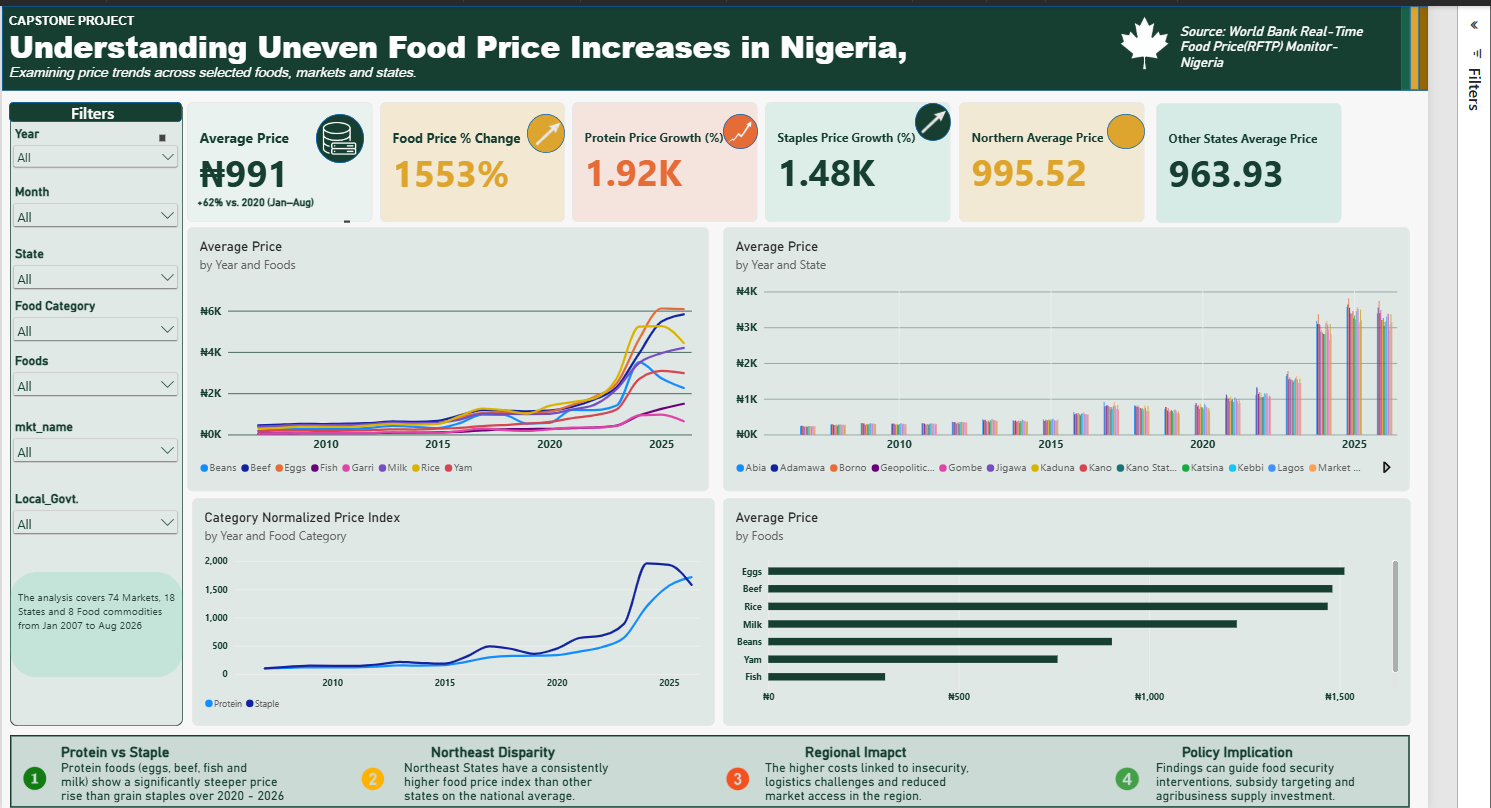

Layout of this report page (visuals, bound fields, positions):
{"tool":"powerbi","page":{"name":"Page 1","canvas":[1920,1080],"ordinal":0},"visuals":[{"type":"shape","box":[0,0,1920.3,114.5],"z":0},{"type":"textbox","title":"CAPSTONE PROJECT","box":[9.4,12.1,210.1,25.6],"z":1000},{"type":"textbox","title":"Understanding Uneven Food Price Increases in Nigeria, 2007–2026","box":[9.4,25.6,1268.5,59.3],"z":2000},{"type":"textbox","title":"Examining price trends across selected foods, markets and states.","box":[9.4,75.4,566.9,39.1],"z":3000},{"type":"textbox","title":"Source: World Bank Real-Time Food Price(RFTP) Monitor- Nigeria","box":[1586.3,22.9,288.2,72.7],"z":4000},{"type":"shape","box":[1908.2,0,12.1,113.1],"z":5000},{"type":"shape","box":[1896.1,0,12.1,113.1],"z":6000},{"type":"shape","box":[1883.9,0,12.1,113.1],"z":7000},{"type":"image","box":[1461.1,12.1,154.9,75.4],"z":8000},{"type":"cardVisual","fields":{"Data":["DateTable.Average Price"]},"box":[249.1,129.3,250.5,162.9],"z":9000},{"type":"shape","box":[422.8,145.4,64.6,66],"z":10000},{"type":"image","box":[416.1,156.2,76.8,44.4],"z":11000},{"type":"shape","box":[10.1,129.9,232.9,840.4],"z":12000},{"type":"textbox","title":"+62% vs. 2020 (Jan–Aug)","box":[262.6,255.9,206,36.4],"z":13000},{"type":"cardVisual","fields":{"Data":["DateTable.Food Price % Change"]},"box":[509,129.3,249.1,162.9],"z":14000},{"type":"cardVisual","fields":{"Data":["DateTable.Protein Price Growth (%)"]},"box":[767.6,129.3,250.5,162.9],"z":15000},{"type":"cardVisual","fields":{"Data":["DateTable.Staples Price Growth (%)"]},"box":[1027.5,129.3,250.5,162.9],"z":16000},{"type":"cardVisual","fields":{"Data":["DateTable.Other States Average Price"]},"box":[1554,130.6,250.5,162.9],"z":17000},{"type":"shape","box":[707,145.4,51.2,52.5],"z":18000},{"type":"image","box":[704.3,150.8,63.3,41.7],"z":19000},{"type":"shape","box":[970.9,145.4,47.1,47.1],"z":20000},{"type":"shape","box":[1229.5,130.6,48.5,51.2],"z":21000},{"type":"image","box":[1229.5,134.7,52.5,41.7],"z":22000},{"type":"image","box":[965.5,144.1,57.9,48.5],"z":23000},{"type":"cardVisual","fields":{"Data":["DateTable.Northern Average Price"]},"box":[1288.7,129.3,250.5,162.9],"z":24000},{"type":"shape","box":[1488,145.4,51.2,47.1],"z":25000},{"type":"slicer","fields":{"Values":["DateTable.Year"]},"box":[9.4,161.6,233,78.1],"z":26000},{"type":"slicer","fields":{"Values":["DateTable.Month"]},"box":[9.4,239.7,233,83.5],"z":27000},{"type":"slicer","fields":{"Values":["Sheet1.adm1_name"]},"box":[9.4,323.2,233,70],"z":28000},{"type":"slicer","fields":{"Values":["Sheet1.Food Category"]},"box":[9.4,393.2,233,74.1],"z":29000},{"type":"slicer","fields":{"Values":["Sheet1.Foods"]},"box":[9.4,467.3,233,79.5],"z":30000},{"type":"slicer","fields":{"Values":["Sheet1.mkt_name"]},"box":[9.4,556.2,233,78.1],"z":31000},{"type":"slicer","fields":{"Values":["Sheet1.Local_Govt."]},"box":[9.4,653.1,233,82.1],"z":32000},{"type":"shape","box":[9.4,129.3,233,26.9],"z":33000},{"type":"textbox","title":"Filters","box":[92.9,129.3,126.6,52.5],"z":34000},{"type":"textbox","box":[21.5,786.4,220.8,74.1],"z":35000},{"type":"shape","box":[10.1,762.8,232.9,141.8],"z":36000},{"type":"lineChart","fields":{"Category":["DateTable.Year"],"Series":["Sheet1.Foods"],"Y":["DateTable.Average Price"]},"box":[249.1,297.6,702.9,355.5],"z":37000},{"type":"clusteredColumnChart","fields":{"Category":["DateTable.Year"],"Series":["Sheet1.State"],"Y":["DateTable.Average Price"]},"box":[970.9,297.6,925.1,355.5],"z":38000},{"type":"lineChart","fields":{"Category":["DateTable.Year"],"Series":["Sheet1.Food Category"],"Y":["DateTable.Category Normalized Price Index"]},"box":[256.5,663.2,703.7,307.1],"z":39000},{"type":"clusteredBarChart","fields":{"Category":["Sheet1.Foods"],"Y":["DateTable.Average Price"]},"box":[970.3,663.2,926.4,307.1],"z":40000},{"type":"shape","box":[10.1,982.1,1884.9,97.9],"z":41000},{"type":"textbox","title":"Protein vs Staple Gap","box":[79.3,993.9,214.3,21.9],"z":42000},{"type":"textbox","title":"Protein foods (eggs, beef, fish and milk) show a significantly steeper price rise than grain staples over 2020 - 2026","box":[79.3,1015.9,322.3,64.1],"z":43000},{"type":"textbox","title":"Northeast Disparity","box":[577.1,993.9,214.3,21.9],"z":44000},{"type":"textbox","title":"Northeast States have a consistently higher food price index than other states on the national average.","box":[541.7,1015.9,322.3,64.1],"z":45000},{"type":"textbox","title":"Regional Imapct","box":[1081.7,993.9,214.3,21.9],"z":46000},{"type":"textbox","title":"The higher costs linked to insecurity, logistics challenges and reduced market access in the region.","box":[1027.7,1015.9,322.3,64.1],"z":47000},{"type":"textbox","title":"Policy Implication","box":[1589.6,993.9,214.3,21.9],"z":48000},{"type":"textbox","title":"Findings can guide food security interventions, subsidy targeting and agribusiness supply investment.","box":[1554.2,1015.9,322.3,64.1],"z":49000},{"type":"image","box":[21.9,1015.9,45.6,50.6],"z":50000},{"type":"image","box":[958.5,1024.3,64.1,32.1],"z":51000},{"type":"image","box":[1490.1,1024.3,48.9,32.1],"z":52000},{"type":"image","box":[470.8,1024.3,55.7,32.1],"z":53000}]}

Visuals, with their boxes on the page's 1920x1080 design canvas (x1, y1, x2, y2). These are canvas units, not pixel positions in the 1491x808 screenshot, which may show the page scaled, cropped or inside an application window:
shape: (x1=0, y1=0, x2=1920, y2=114)
"CAPSTONE PROJECT" textbox: (x1=9, y1=12, x2=220, y2=38)
"Understanding Uneven Food Price Increases in Nigeria, 2007–2026" textbox: (x1=9, y1=26, x2=1278, y2=85)
"Examining price trends across selected foods, markets and states." textbox: (x1=9, y1=75, x2=576, y2=114)
"Source: World Bank Real-Time Food Price(RFTP) Monitor- Nigeria" textbox: (x1=1586, y1=23, x2=1874, y2=96)
shape: (x1=1908, y1=0, x2=1920, y2=113)
shape: (x1=1896, y1=0, x2=1908, y2=113)
shape: (x1=1884, y1=0, x2=1896, y2=113)
image: (x1=1461, y1=12, x2=1616, y2=88)
cardVisual - DateTable.Average Price: (x1=249, y1=129, x2=500, y2=292)
shape: (x1=423, y1=145, x2=487, y2=211)
image: (x1=416, y1=156, x2=493, y2=201)
shape: (x1=10, y1=130, x2=243, y2=970)
"+62% vs. 2020 (Jan–Aug)" textbox: (x1=263, y1=256, x2=469, y2=292)
cardVisual - DateTable.Food Price % Change: (x1=509, y1=129, x2=758, y2=292)
cardVisual - DateTable.Protein Price Growth (%): (x1=768, y1=129, x2=1018, y2=292)
cardVisual - DateTable.Staples Price Growth (%): (x1=1028, y1=129, x2=1278, y2=292)
cardVisual - DateTable.Other States Average Price: (x1=1554, y1=131, x2=1804, y2=294)
shape: (x1=707, y1=145, x2=758, y2=198)
image: (x1=704, y1=151, x2=768, y2=192)
shape: (x1=971, y1=145, x2=1018, y2=192)
shape: (x1=1230, y1=131, x2=1278, y2=182)
image: (x1=1230, y1=135, x2=1282, y2=176)
image: (x1=966, y1=144, x2=1023, y2=193)
cardVisual - DateTable.Northern Average Price: (x1=1289, y1=129, x2=1539, y2=292)
shape: (x1=1488, y1=145, x2=1539, y2=192)
slicer - DateTable.Year: (x1=9, y1=162, x2=242, y2=240)
slicer - DateTable.Month: (x1=9, y1=240, x2=242, y2=323)
slicer - Sheet1.adm1_name: (x1=9, y1=323, x2=242, y2=393)
slicer - Sheet1.Food Category: (x1=9, y1=393, x2=242, y2=467)
slicer - Sheet1.Foods: (x1=9, y1=467, x2=242, y2=547)
slicer - Sheet1.mkt_name: (x1=9, y1=556, x2=242, y2=634)
slicer - Sheet1.Local_Govt.: (x1=9, y1=653, x2=242, y2=735)
shape: (x1=9, y1=129, x2=242, y2=156)
"Filters" textbox: (x1=93, y1=129, x2=220, y2=182)
textbox: (x1=22, y1=786, x2=242, y2=860)
shape: (x1=10, y1=763, x2=243, y2=905)
lineChart - DateTable.Year x Sheet1.Foods: (x1=249, y1=298, x2=952, y2=653)
clusteredColumnChart - DateTable.Year x Sheet1.State: (x1=971, y1=298, x2=1896, y2=653)
lineChart - DateTable.Year x Sheet1.Food Category: (x1=256, y1=663, x2=960, y2=970)
clusteredBarChart - Sheet1.Foods x DateTable.Average Price: (x1=970, y1=663, x2=1897, y2=970)
shape: (x1=10, y1=982, x2=1895, y2=1080)
"Protein vs Staple Gap" textbox: (x1=79, y1=994, x2=294, y2=1016)
"Protein foods (eggs, beef, fish and milk) show a significantly steeper price rise than grain staples over 2020 - 2026" textbox: (x1=79, y1=1016, x2=402, y2=1080)
"Northeast Disparity" textbox: (x1=577, y1=994, x2=791, y2=1016)
"Northeast States have a consistently higher food price index than other states on the national average." textbox: (x1=542, y1=1016, x2=864, y2=1080)
"Regional Imapct" textbox: (x1=1082, y1=994, x2=1296, y2=1016)
"The higher costs linked to insecurity, logistics challenges and reduced market access in the region." textbox: (x1=1028, y1=1016, x2=1350, y2=1080)
"Policy Implication" textbox: (x1=1590, y1=994, x2=1804, y2=1016)
"Findings can guide food security interventions, subsidy targeting and agribusiness supply investment." textbox: (x1=1554, y1=1016, x2=1876, y2=1080)
image: (x1=22, y1=1016, x2=68, y2=1066)
image: (x1=958, y1=1024, x2=1023, y2=1056)
image: (x1=1490, y1=1024, x2=1539, y2=1056)
image: (x1=471, y1=1024, x2=526, y2=1056)
